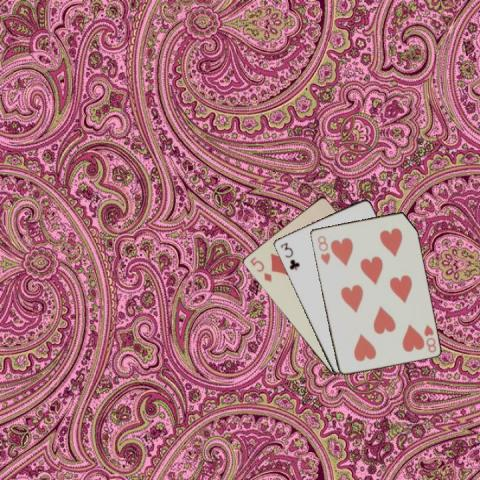3c: (277, 240, 301, 272)
5d: (247, 254, 273, 283)
8h: (314, 233, 331, 266), (421, 322, 437, 354)
